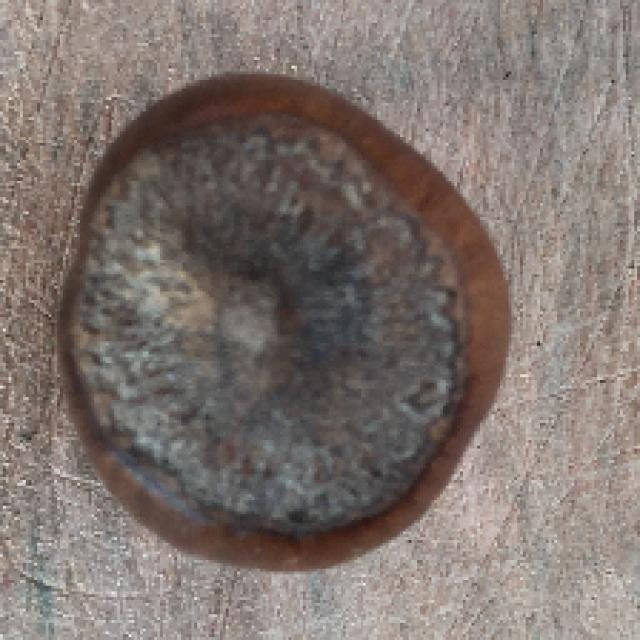DamagedHazelnut: (57, 79, 515, 576)
